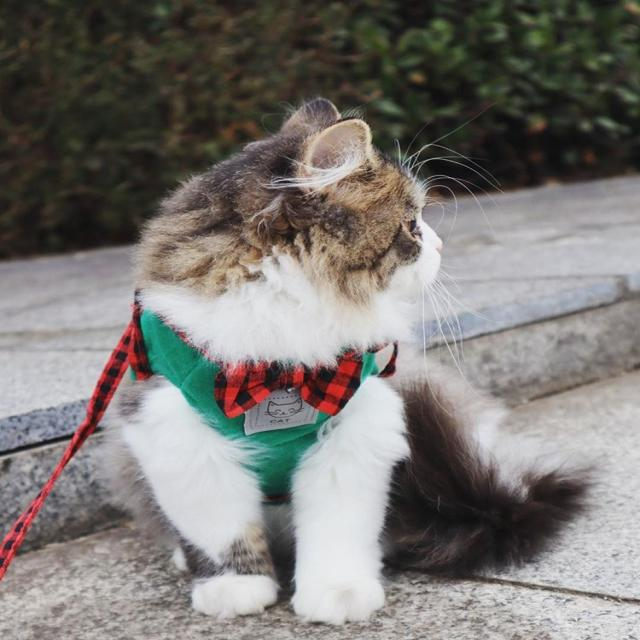cat: (77, 85, 602, 626)
